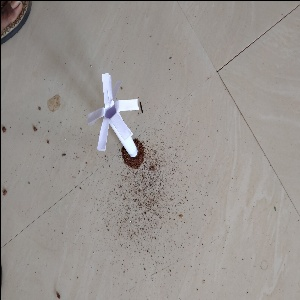weed: (78, 72, 148, 156)
